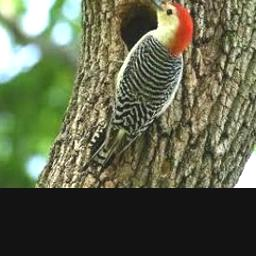Woodpecker: (78, 0, 193, 182)
